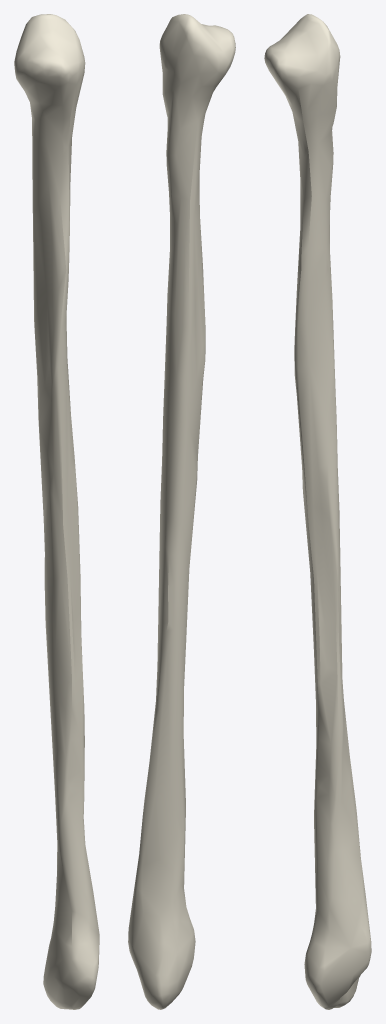
File: fma24480_fj3366.glb
The picture shows the model from 3 angles, left to right: view 1: azimuth 30°, elevation 25°; view 2: azimuth 150°, elevation 25°; view 3: azimuth 330°, elevation 25°; orthographic projection.
Parts seen in each view (by area): view 1: FMA24480_FJ3366; view 2: FMA24480_FJ3366; view 3: FMA24480_FJ3366.
Part boxes in pixels (box(x1,y1,x2,y2)): FMA24480_FJ3366: box(14, 14, 99, 1009); FMA24480_FJ3366: box(128, 14, 235, 1009); FMA24480_FJ3366: box(264, 14, 371, 1009).
Bounding box in the file's own units: 0.0358 × 0.3844 × 0.0297.
